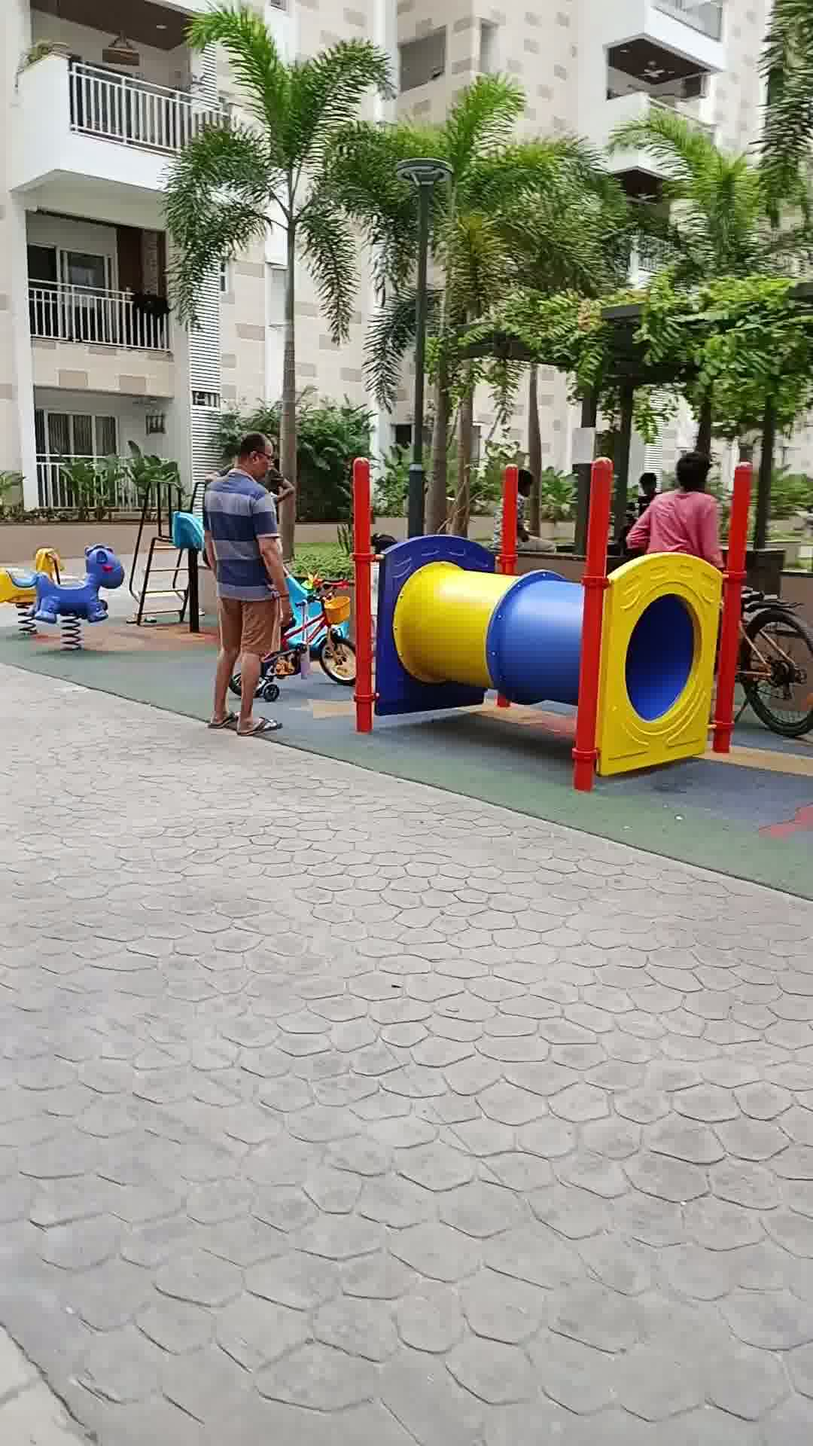bicycle: (256, 572, 370, 683), (740, 581, 813, 746)
person: (208, 410, 313, 751), (634, 455, 737, 566)
tree: (176, 0, 364, 569), (330, 83, 515, 547), (623, 102, 813, 547), (464, 94, 612, 564)
